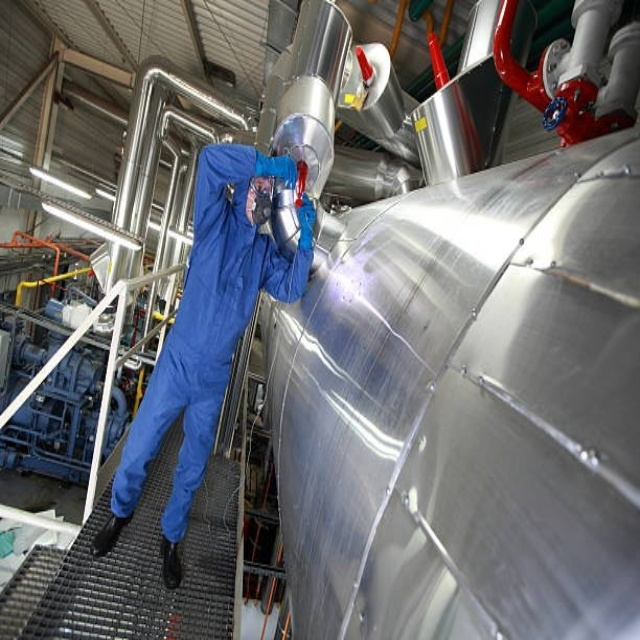Gafas: (248, 173, 277, 199)
Guantes: (257, 143, 300, 188), (294, 193, 319, 251)
Mascara: (246, 187, 275, 227)
